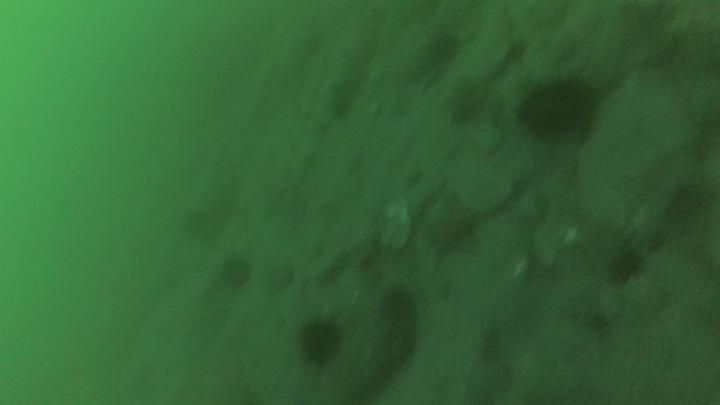echinus: (516, 75, 599, 141), (296, 316, 345, 367), (666, 177, 717, 222), (378, 286, 420, 330), (605, 245, 647, 286), (424, 30, 463, 69), (217, 253, 255, 292)
starfish: (420, 194, 481, 258)
